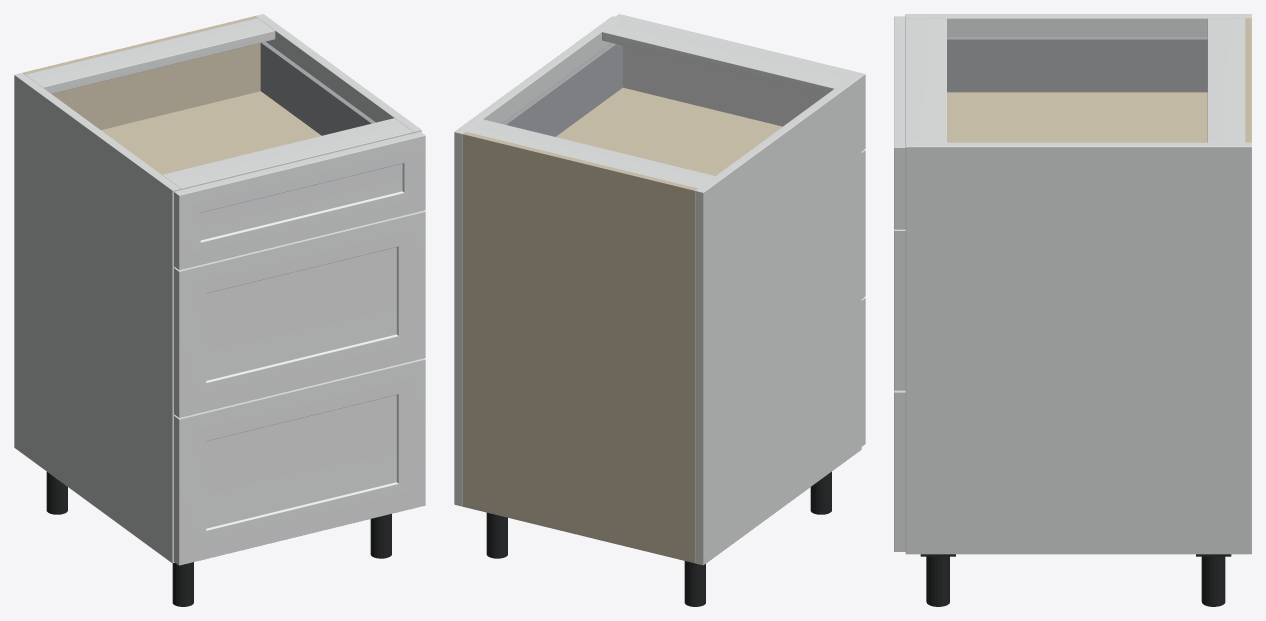
File: PLY-WSS-3DB21.glb
The picture shows the model from 3 angles, left to right: view 1: azimuth 30°, elevation 25°; view 2: azimuth 150°, elevation 25°; view 3: azimuth 270°, elevation 25°; orthographic projection. The views are drawn at different scales.
Visible parts, largest first — view 1: Carcass left, Drawer front.001, Drawer front, Drawer front.002, Drawer bottom.002, Drawer back.002, Top support rail, Top support rail.001, Metal drawer side.005, Carcass right, Adjustable foot.001, Adjustable foot.003 (+2 smaller); view 2: Carcass back, Carcass left, Drawer bottom.002, Drawer front.002, Carcass right, Top support rail.001, Metal drawer side.005, Top support rail, Adjustable foot, Adjustable foot.002, Adjustable foot.001, Drawer front (+2 smaller); view 3: Carcass right, Metal drawer side.004, Drawer bottom.002, Carcass left, Top support rail.001, Top support rail, Drawer front.002, Drawer front, Drawer front.001, Adjustable foot.002, Adjustable foot.003, Carcass back.
Boxes of the visible parts, <box> form: Carcass left: <box>14,73,180,563</box>; Drawer front.001: <box>174,210,425,417</box>; Drawer front: <box>174,358,425,565</box>; Drawer front.002: <box>174,131,425,269</box>; Drawer bottom.002: <box>101,91,321,174</box>; Drawer back.002: <box>52,43,260,129</box>; Top support rail: <box>26,18,275,93</box>; Top support rail.001: <box>162,118,413,189</box>; Metal drawer side.005: <box>260,41,375,135</box>; Carcass right: <box>255,14,421,133</box>; Adjustable foot.001: <box>172,562,193,606</box>; Adjustable foot.003: <box>370,514,391,558</box>; Carcass back: <box>462,132,697,562</box>; Carcass left: <box>695,75,861,565</box>; Drawer bottom.002: <box>556,87,782,175</box>; Drawer front.002: <box>615,14,865,150</box>; Carcass right: <box>454,16,620,506</box>; Top support rail.001: <box>602,18,852,94</box>; Metal drawer side.005: <box>501,43,622,136</box>; Top support rail: <box>466,119,714,188</box>; Adjustable foot: <box>684,561,705,606</box>; Adjustable foot.002: <box>486,512,507,558</box>; Adjustable foot.001: <box>810,471,831,514</box>; Drawer front: <box>861,297,865,446</box>; Carcass right: <box>905,142,1251,554</box>; Metal drawer side.004: <box>947,37,1207,92</box>; Drawer bottom.002: <box>947,92,1207,142</box>; Carcass left: <box>905,14,1251,36</box>; Top support rail.001: <box>905,18,946,142</box>; Top support rail: <box>1207,18,1245,142</box>; Drawer front.002: <box>894,16,905,229</box>; Drawer front: <box>894,390,905,551</box>; Drawer front.001: <box>894,229,905,390</box>; Adjustable foot.002: <box>1201,556,1225,606</box>; Adjustable foot.003: <box>926,556,949,606</box>; Carcass back: <box>1245,18,1251,142</box>.
Size of the model in its own units: 0.5334 by 0.8763 by 0.6064.
